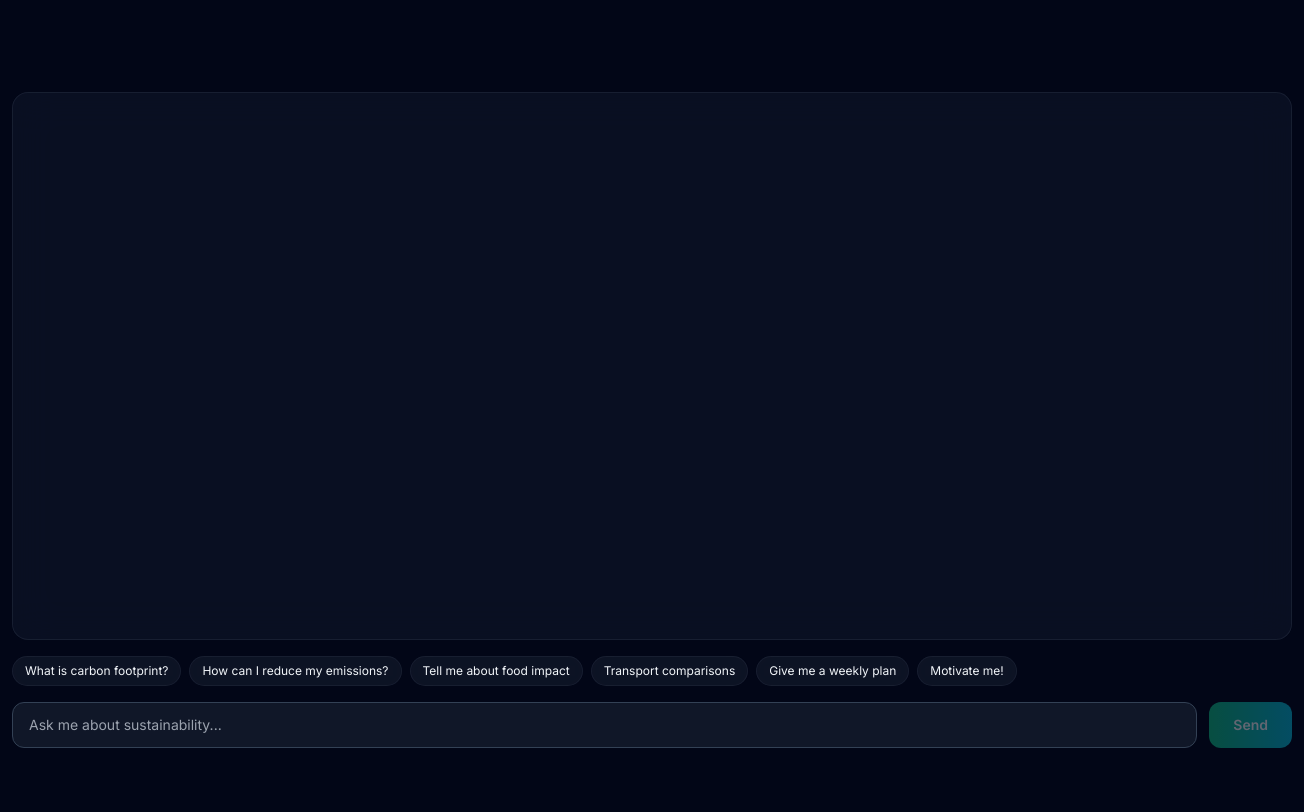
Test: CoachPage › sends a message and receives a response
Step 1. Type "what is carbon footprint?" into the field with placeholder "Ask me about sustainability..." → (605, 725), box [12,702,1197,748]
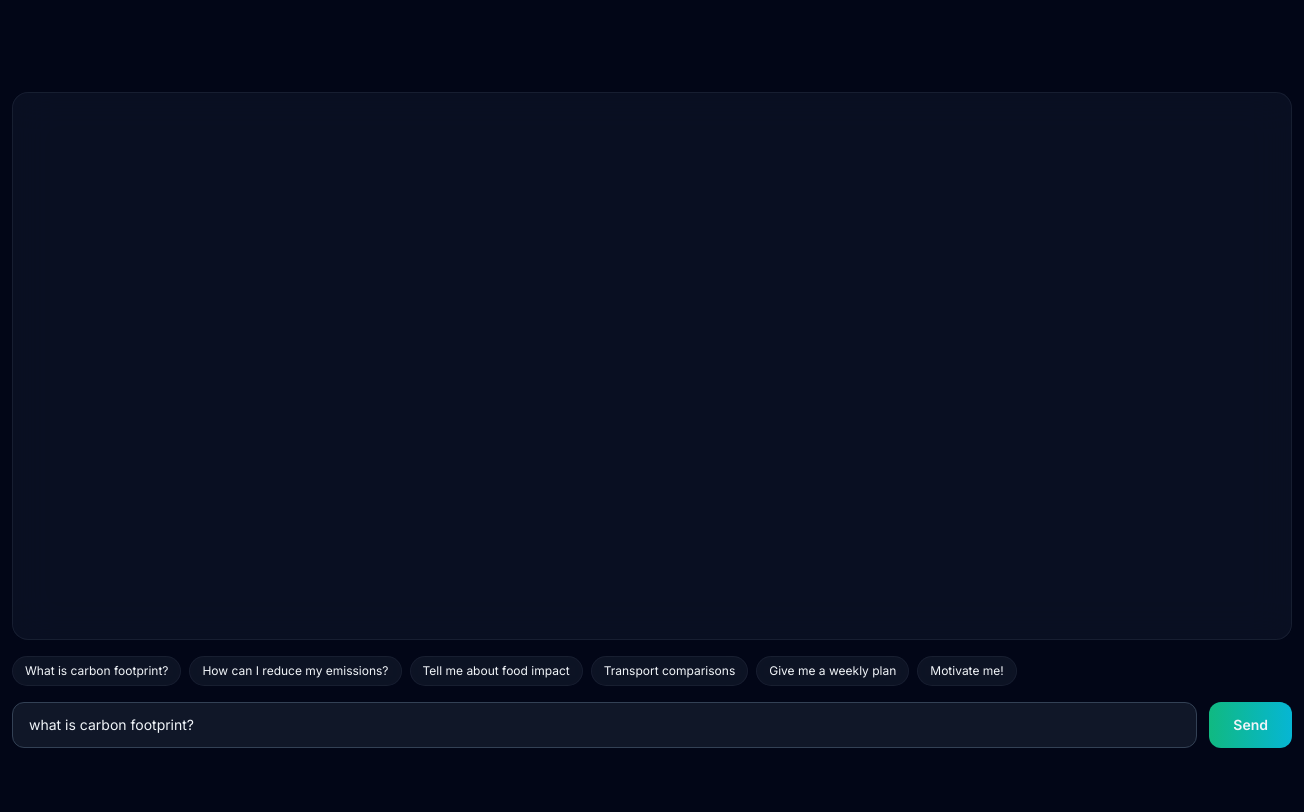
Now the button "Send" is enabled
Step 2. Click the button "Send" → click(1251, 725), box [1209,702,1292,748]
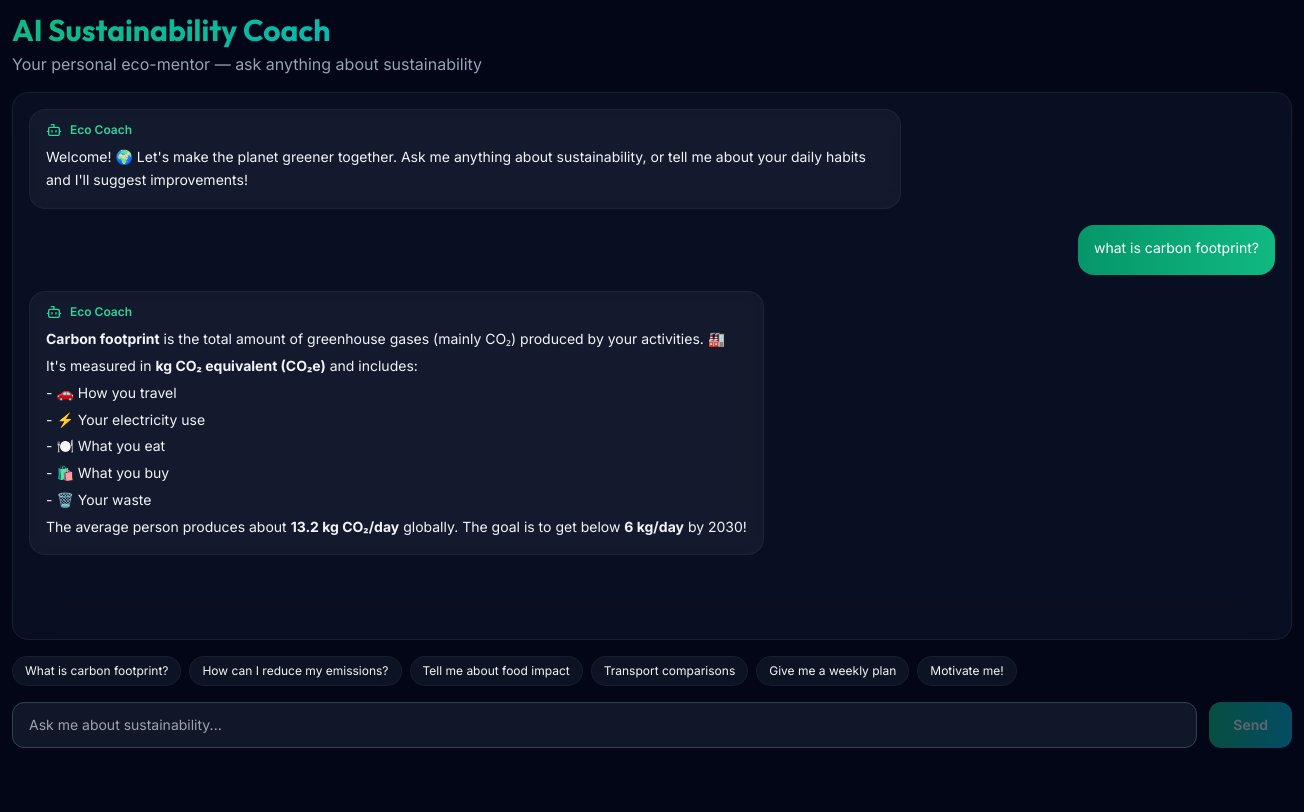
Now the text "what is carbon footprint?" is shown, box [1094,236,1259,259]
